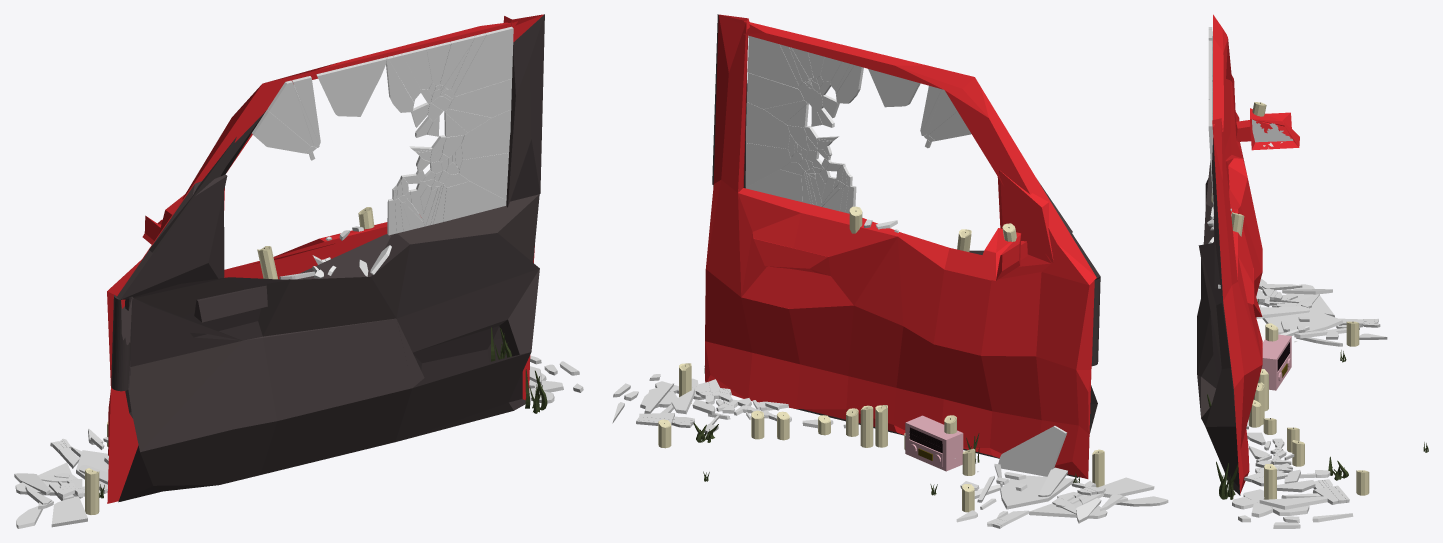
Rendered from Door3.fbx.
3 renders of one model, left to right at view 1: azimuth 30°, elevation 25°; view 2: azimuth 150°, elevation 25°; view 3: azimuth 270°, elevation 25°, orthographic. The views are drawn at different scales.
Visible parts, largest first — view 1: Cylinder.004; view 2: Cylinder.004; view 3: Cylinder.004.
Part boxes in pixels (x1,y1,x2,y2): Cylinder.004: (14, 14, 583, 528); Cylinder.004: (612, 14, 1168, 528); Cylinder.004: (1197, 14, 1428, 528).
Size of the model in its own units: 822 by 560 by 316.
